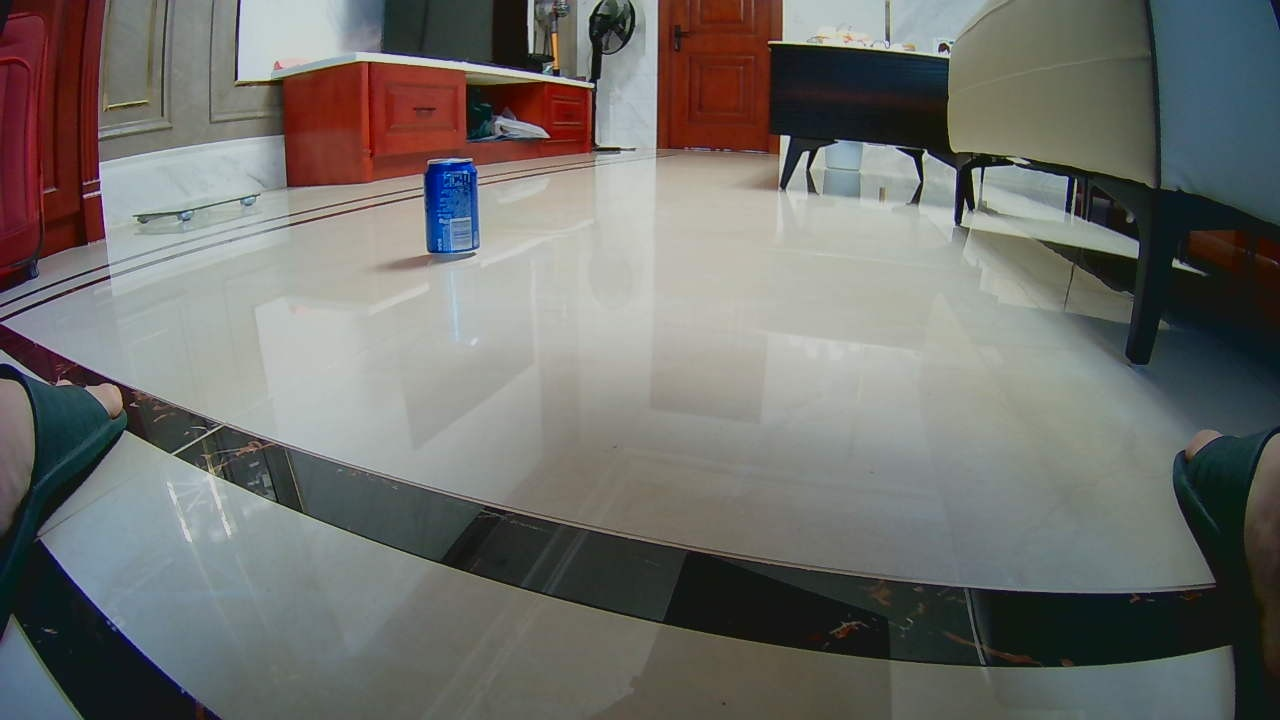pessi: (422, 161, 478, 254)
